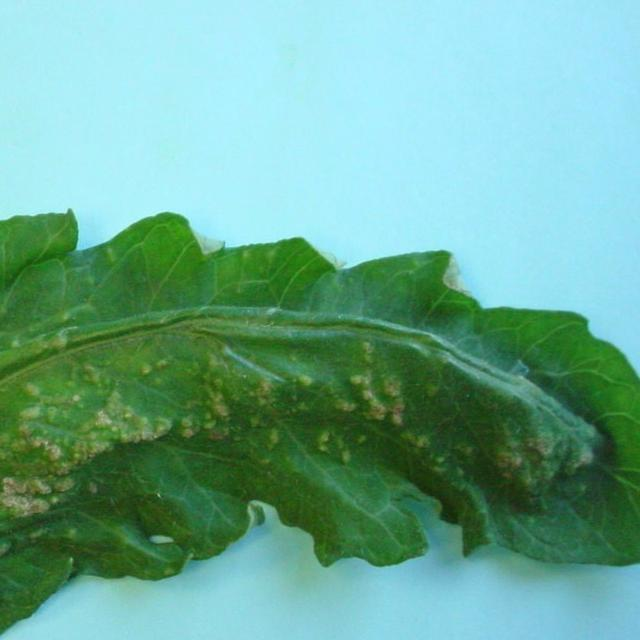Tomato mold leaf: (0, 158, 640, 640)
